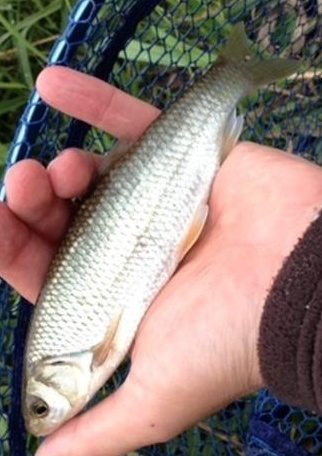Leuciscus leuciscus: (20, 20, 302, 436)
